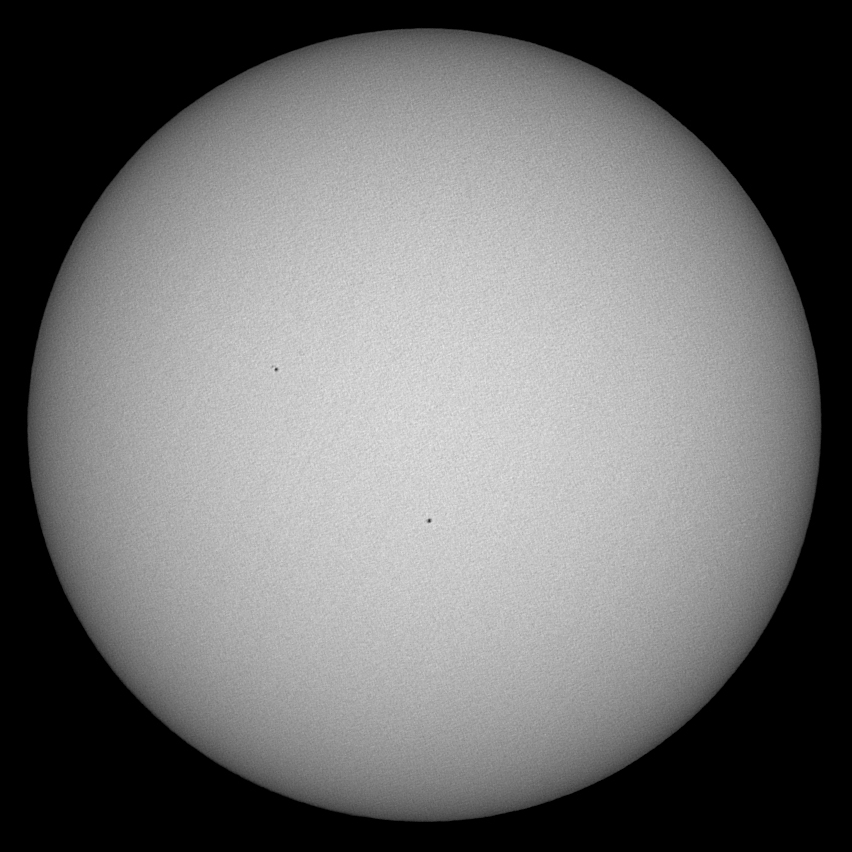sunspot: (265, 360, 285, 376), (422, 511, 437, 528)
